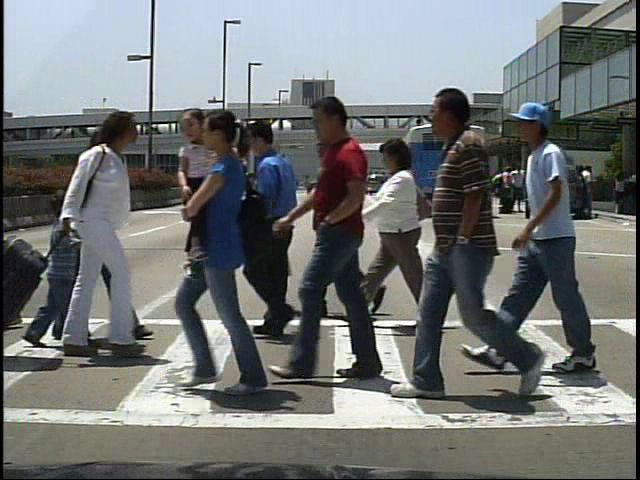person: (421, 84, 541, 419), (44, 113, 155, 362), (310, 95, 392, 384), (225, 122, 324, 346), (511, 101, 590, 378), (358, 136, 451, 335), (305, 130, 378, 322), (69, 114, 124, 361), (16, 195, 83, 358), (582, 168, 602, 218), (496, 165, 514, 218), (508, 166, 527, 215)
